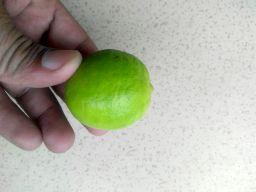lemon: (59, 44, 164, 132)
